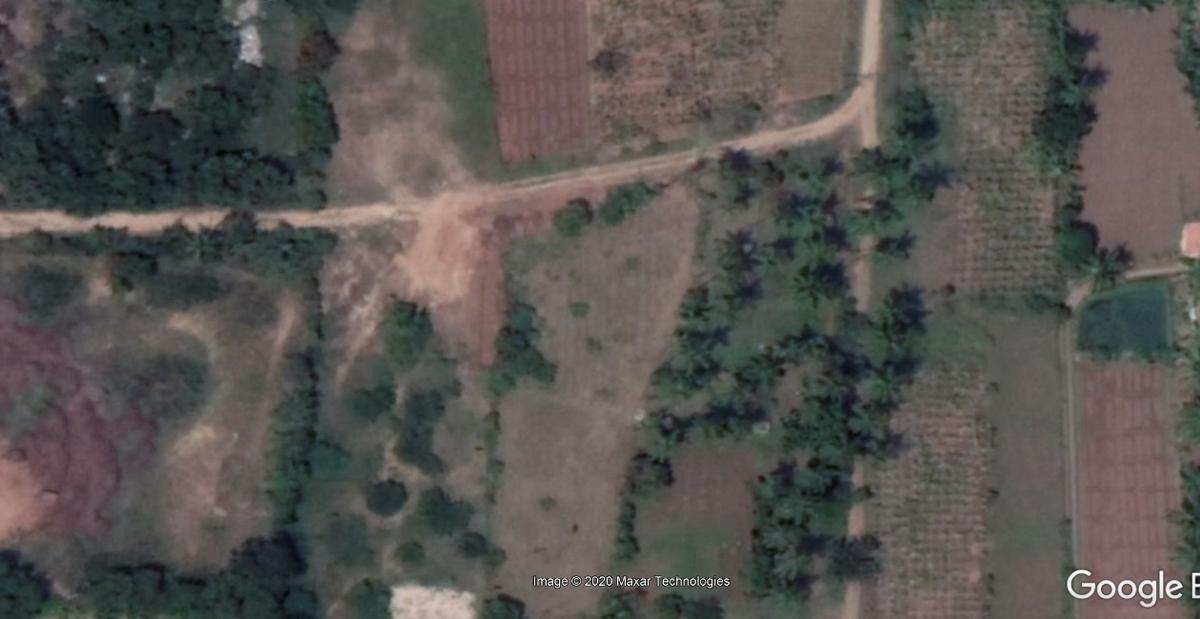coconut: (794, 268, 842, 315), (739, 348, 784, 393), (1079, 247, 1122, 294), (865, 363, 908, 407), (713, 233, 758, 273), (672, 333, 712, 371), (772, 548, 809, 587), (757, 518, 794, 546)
